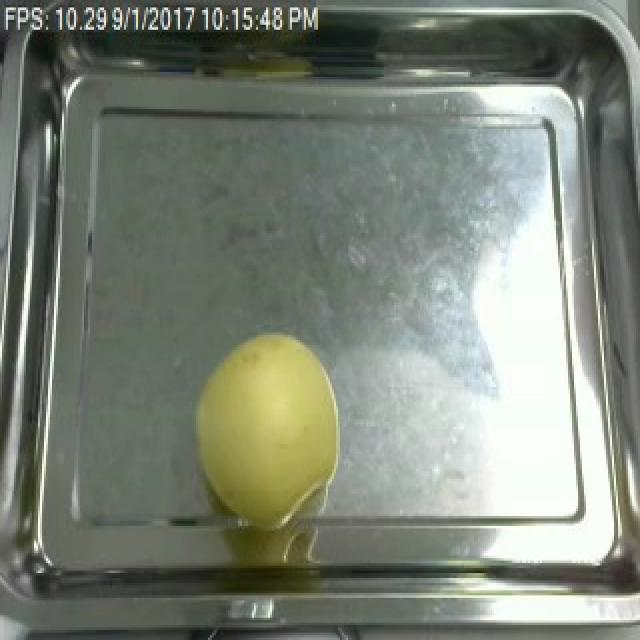Fruit: (184, 325, 352, 526)
